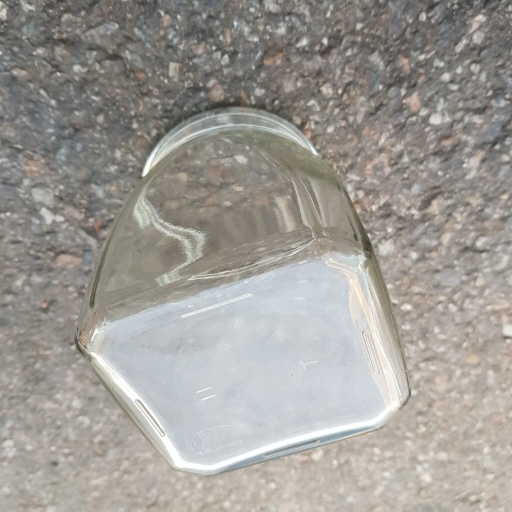Glass_5: (74, 102, 414, 475)
